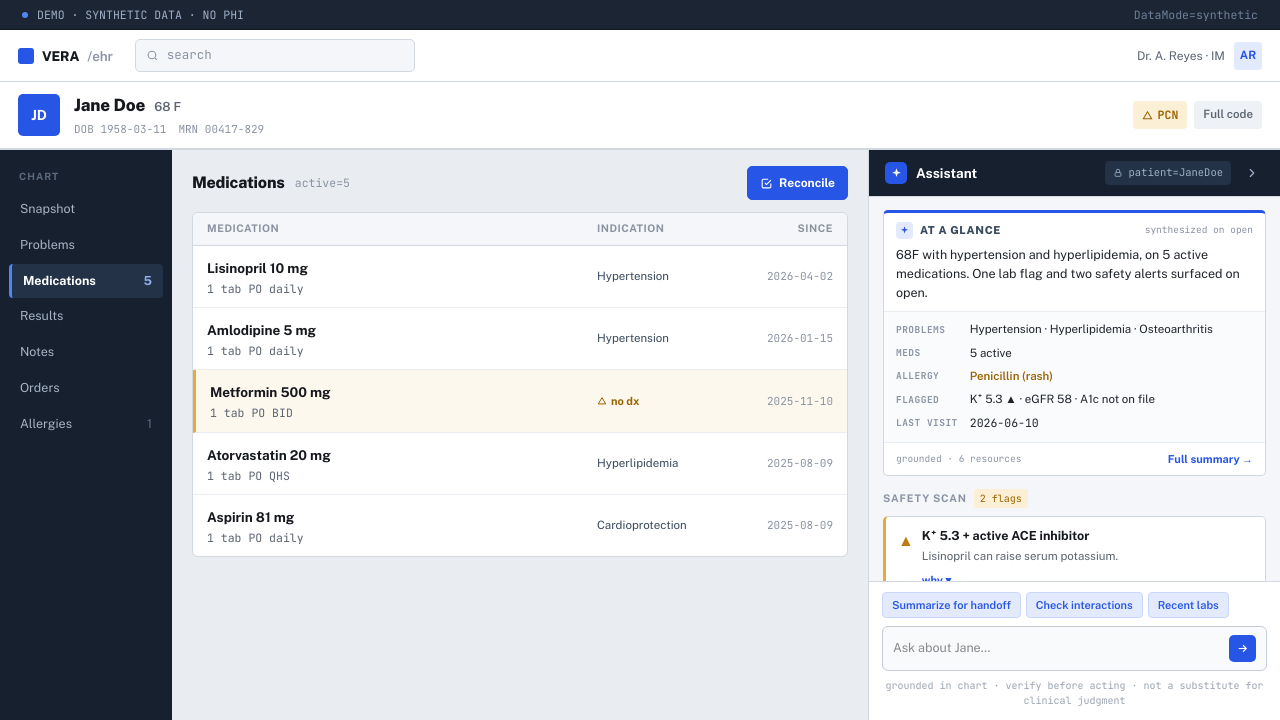
Console › appends a user message and the responder's reply
In the field named "Ask the assistant": (1057, 648) [893,639,1221,658], type "Hello?"
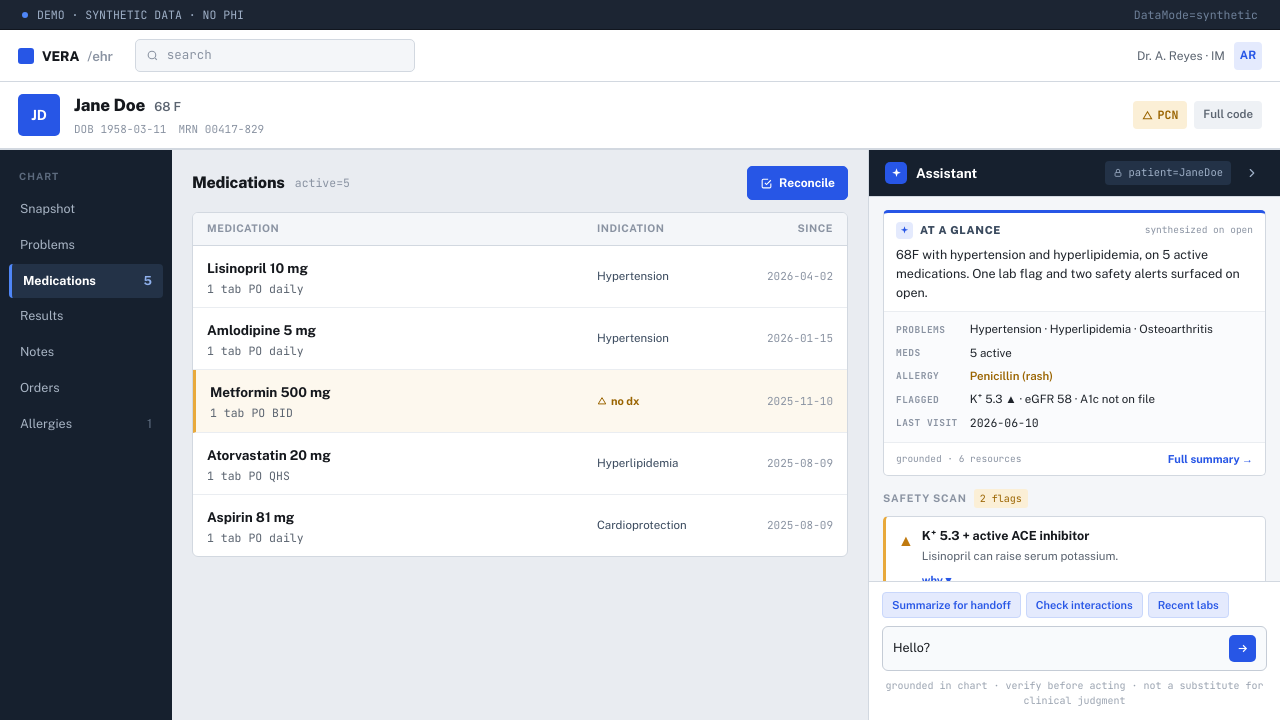
Click the button named "Send": (1242, 648) [1229,635,1256,662]
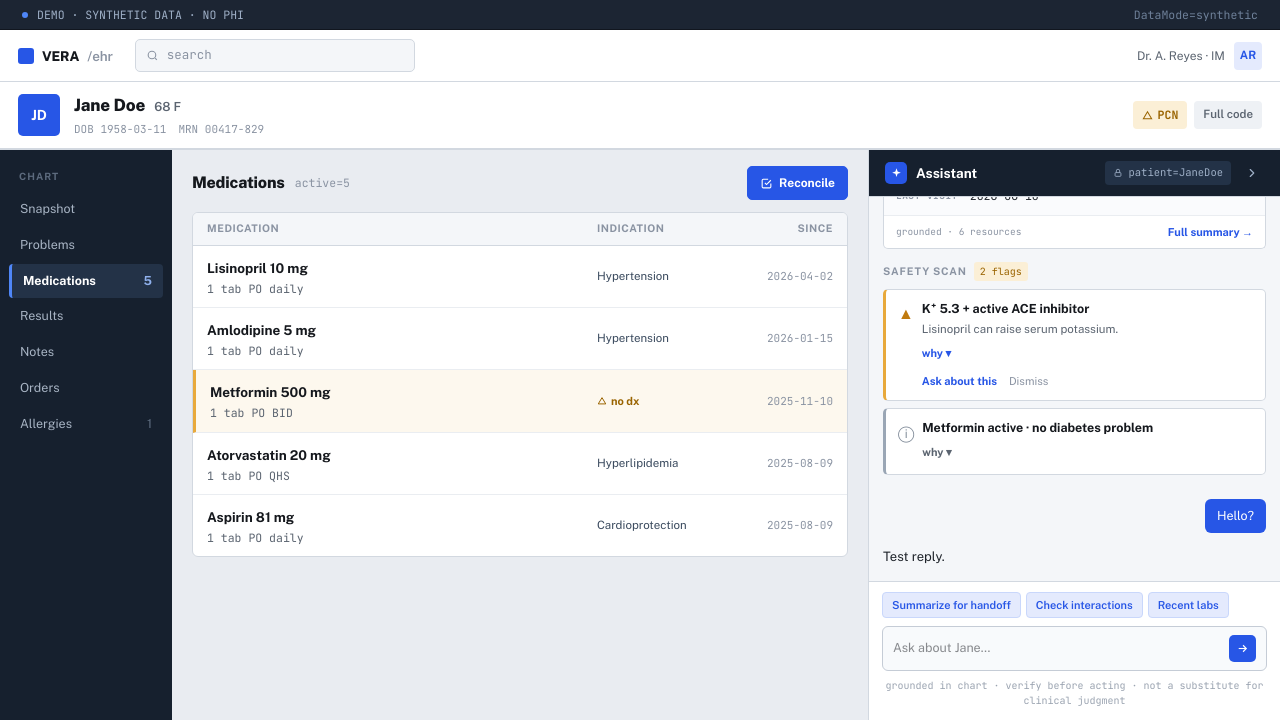
Expected: the text "Hello?" is shown, [1205,499,1266,533]
Expected: the text "Test reply." is shown, [883,549,945,564]
